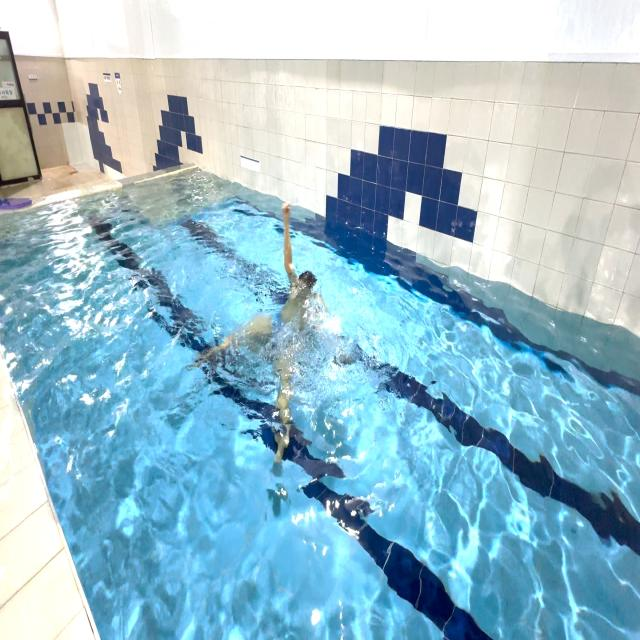Drowning: (212, 175, 341, 451)
